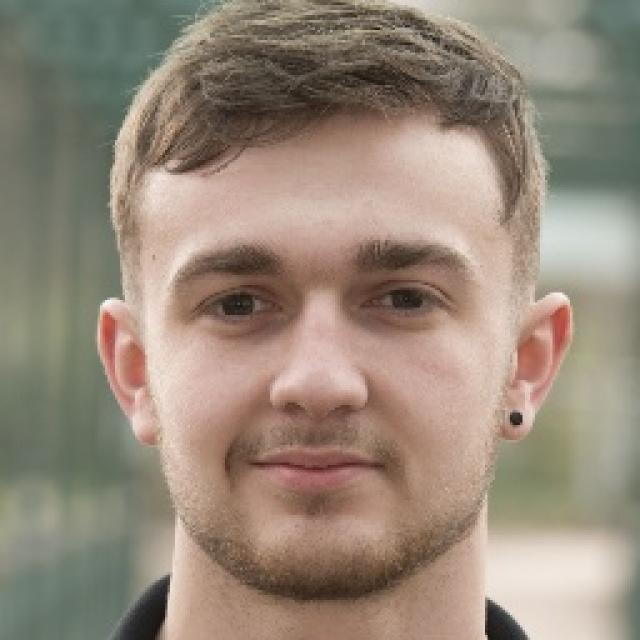earlobe: (500, 396, 537, 442), (125, 405, 162, 445)
eye: (357, 283, 448, 317), (192, 291, 281, 321)
nose: (270, 396, 364, 441)
wholeear: (502, 290, 574, 444), (98, 299, 163, 443)
